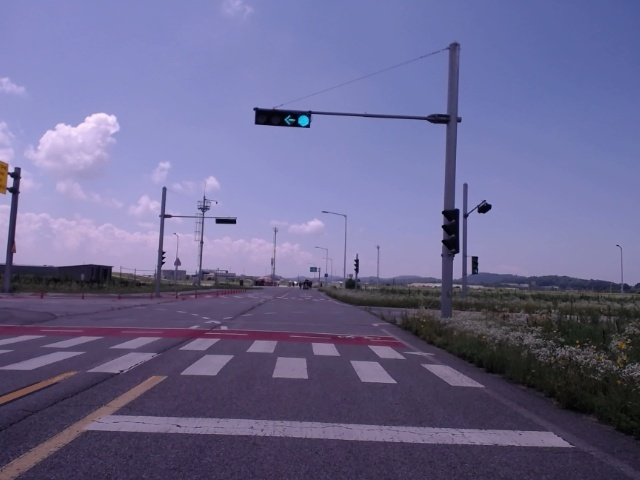all_green_4: (257, 107, 308, 128)
